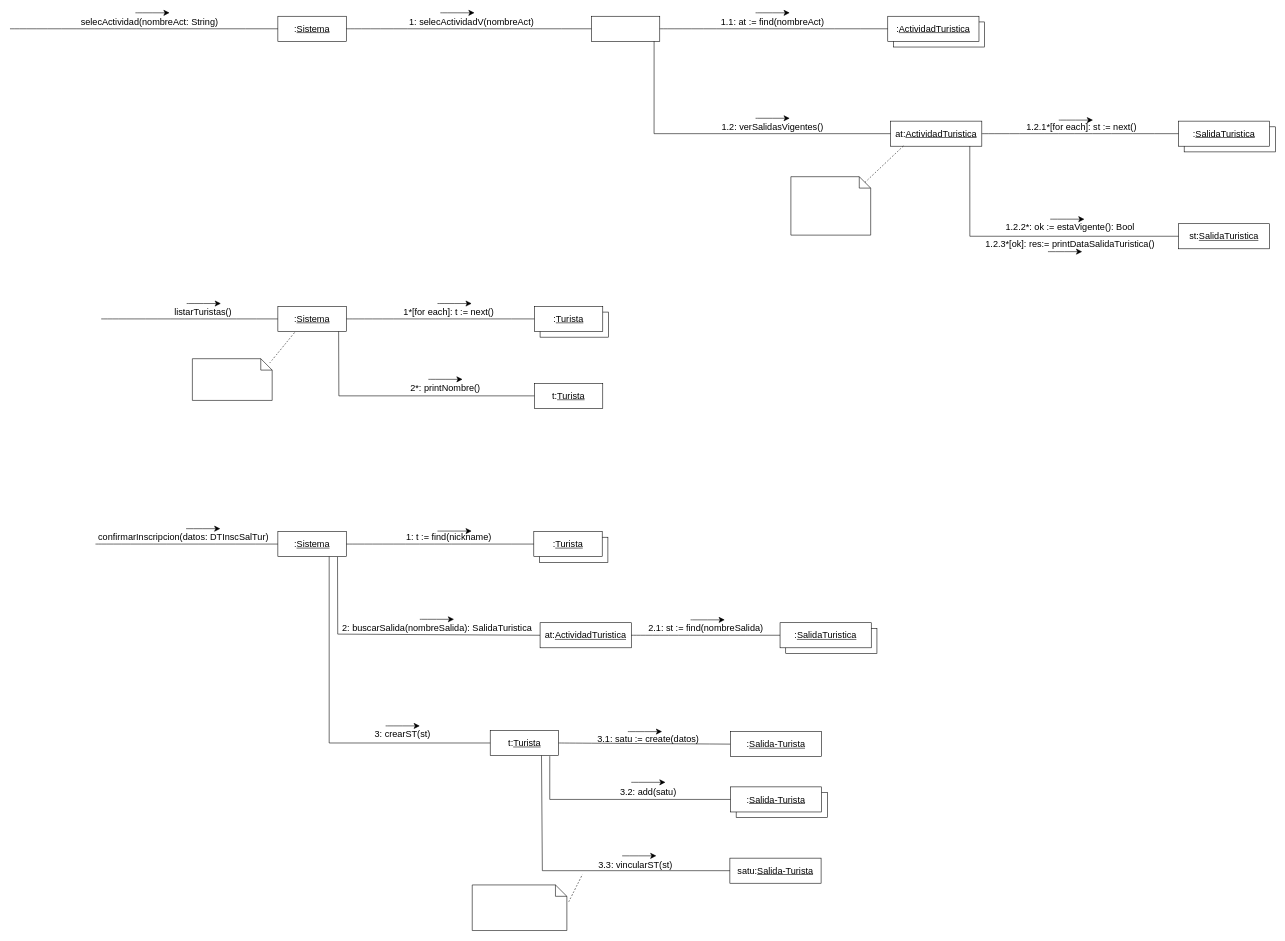
Image size: 1285x941. Some labels were removed from this diagram. Each missing label, with the centre of its shape:
"d: Departamento" goes at (625,28).
"Retorna los DTSalidaTuristica de las salidas vigentes" goes at (830,205).
"Retorna los nombres de los turistas" goes at (232,379).
"Vincula Salida-Turista con SalidaTuristica" goes at (519,907).
